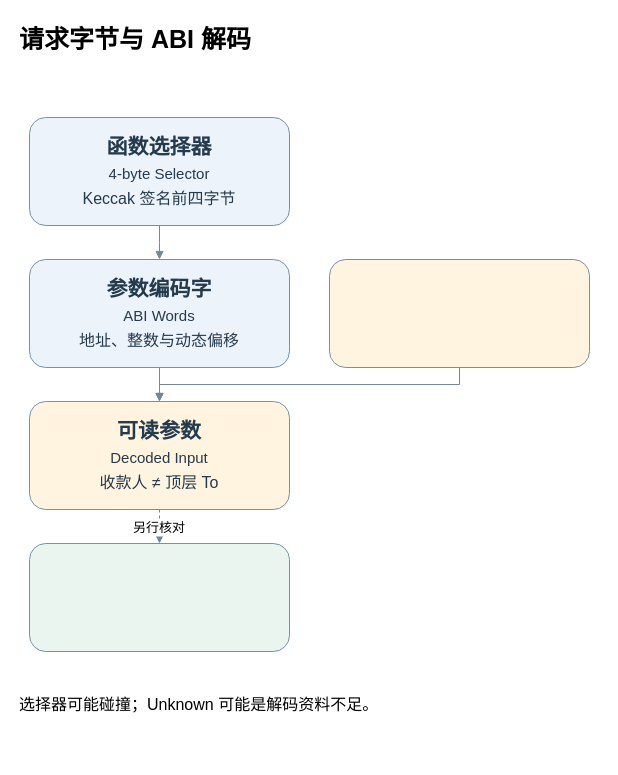
Some shapes in this 618 by 775 pixel diagram are drawn without their labels. Here are the shapes that lost their labels. From the top down, the centre of each, then its label:
[459,313]: 适用接口定义 ABI / Version 类型与布局证据
[159,597]: 执行结果 Receipt / Return 输入不保证成功
